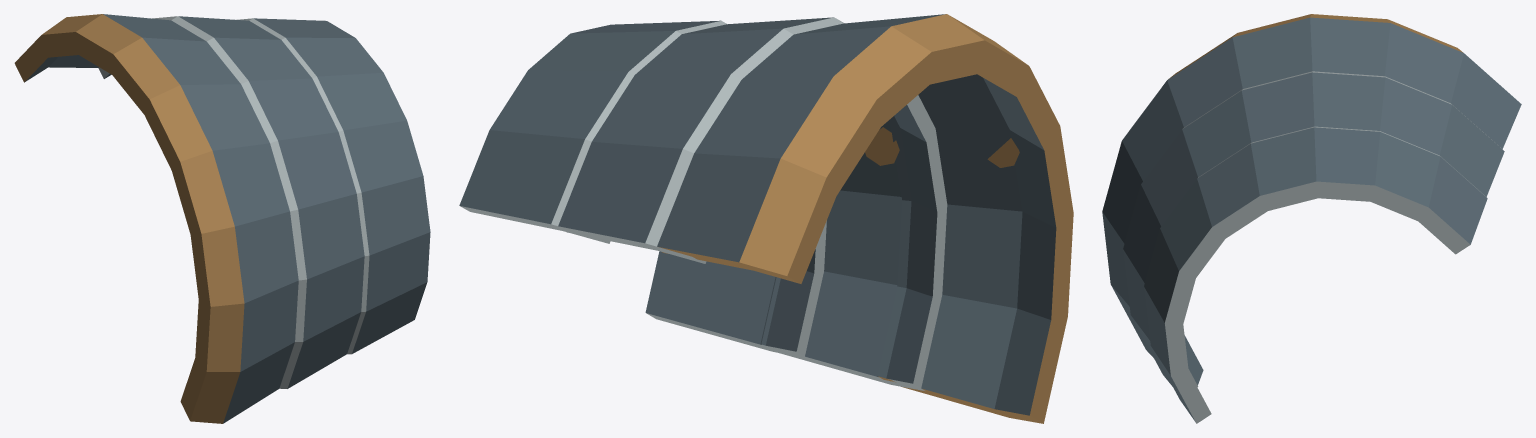
File: ranger_shoulder_l.glb
3 renders of one model, left to right at view 1: azimuth 30°, elevation 25°; view 2: azimuth 150°, elevation 25°; view 3: azimuth 270°, elevation 25°, orthographic. The views are drawn at different scales.
Parts seen in each view (by area): view 1: ranger_shoulder_l; view 2: ranger_shoulder_l; view 3: ranger_shoulder_l.
Boxes of the visible parts, box(x1,y1,x2,y2) form: ranger_shoulder_l: box(14, 14, 430, 423); ranger_shoulder_l: box(459, 14, 1073, 423); ranger_shoulder_l: box(1102, 14, 1521, 423).
Bounding box in the file's own units: 0.165 × 0.2106 × 0.2409.
